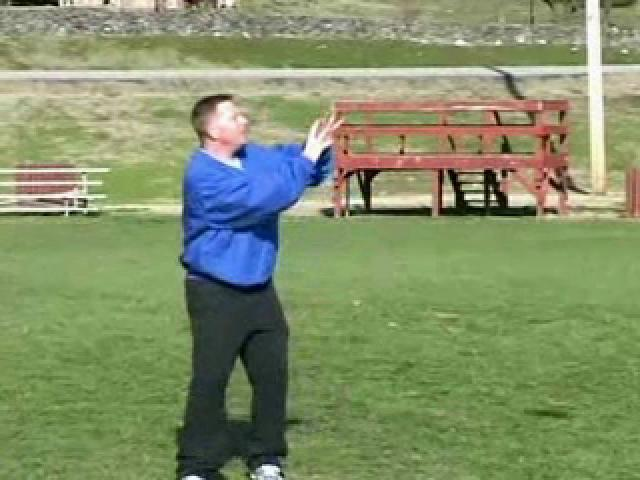I: (165, 92, 344, 480)
